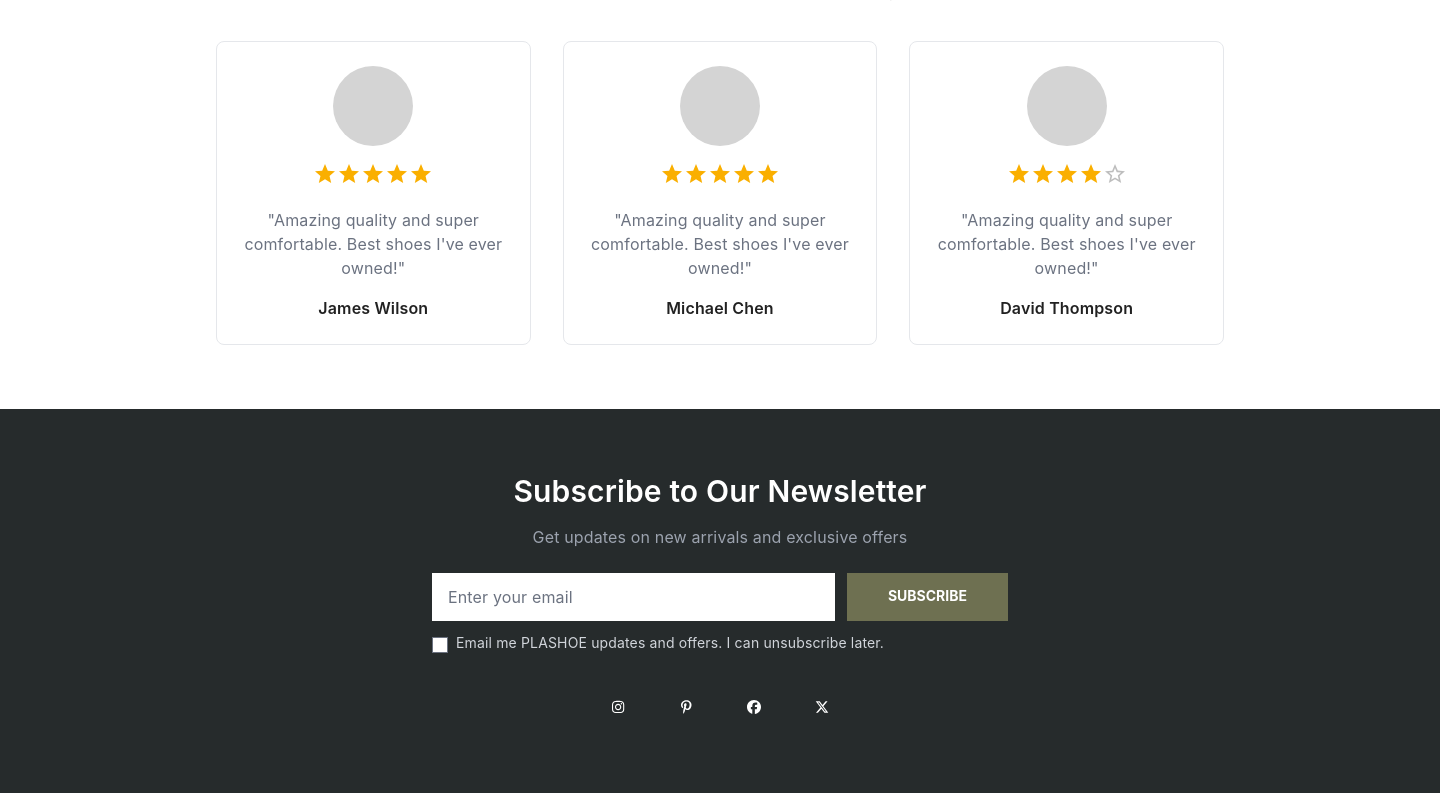
shows newsletter API errors in the form
(page scrolled)
Type "subscriber@example.com" into the field labelled "Enter your email" at (633, 597), box [432,573,835,621]
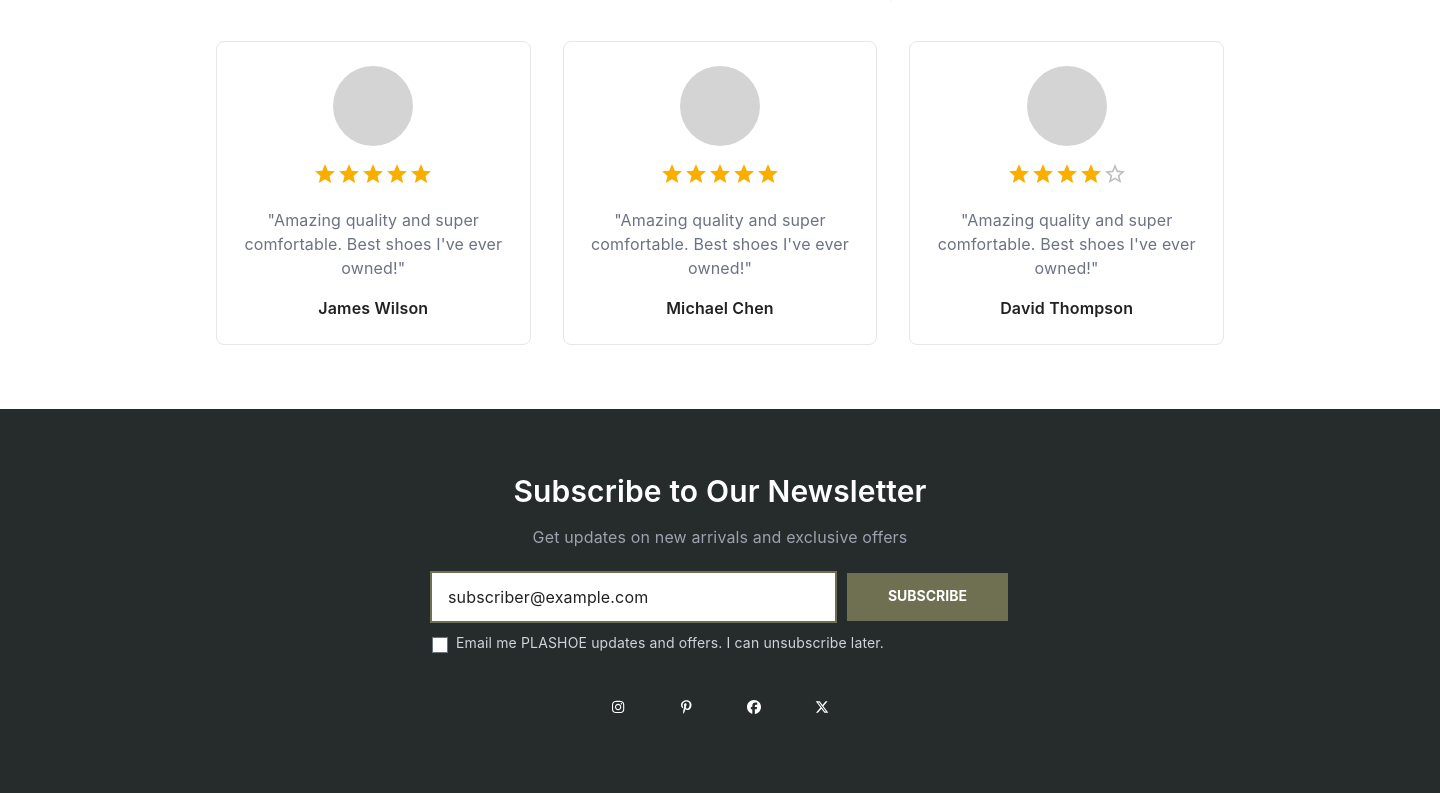
Click the checkbox labelled "Email me PLASHOE updates" at (440, 645), box [432,637,448,653]
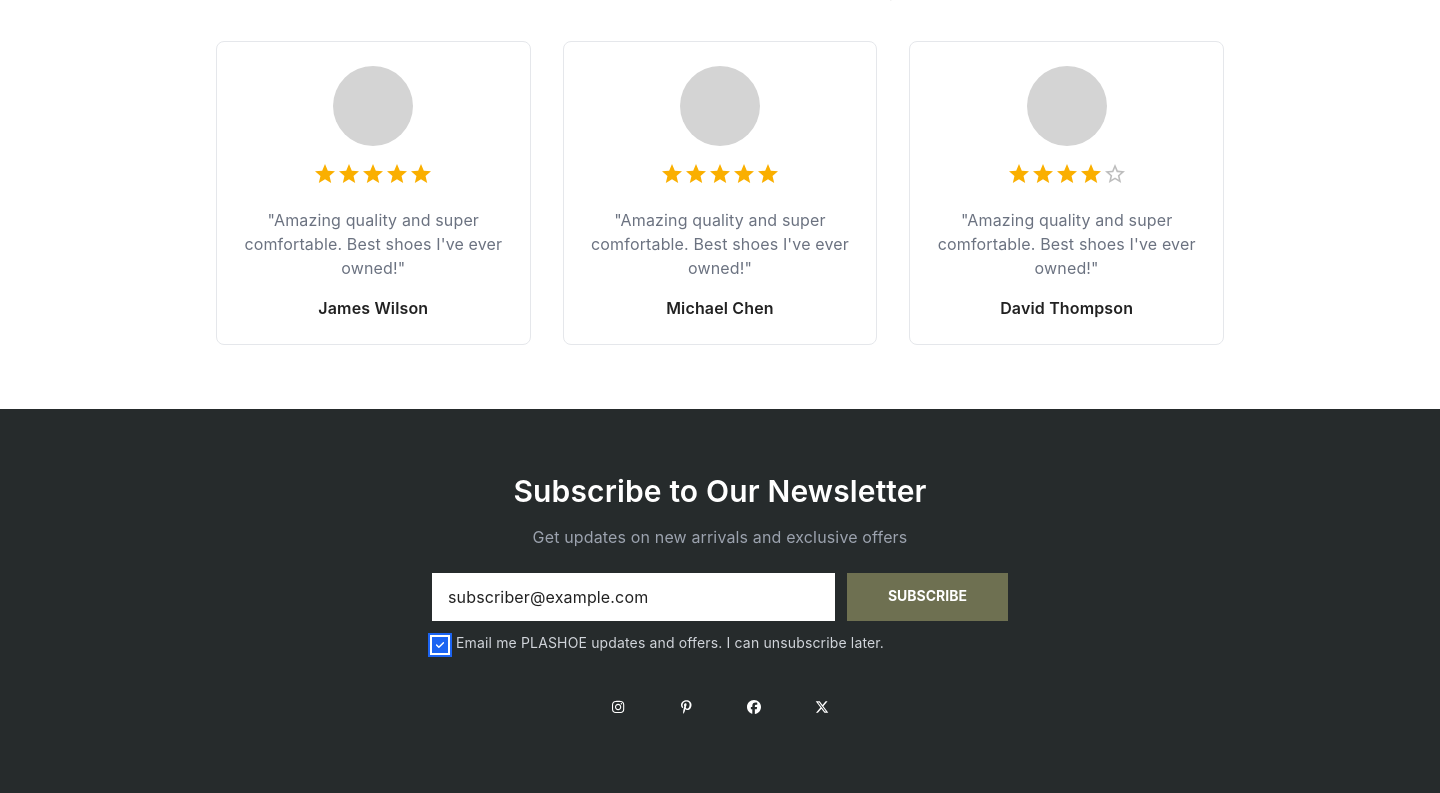
Click the button "SUBSCRIBE" at (927, 597), box [847,573,1008,621]
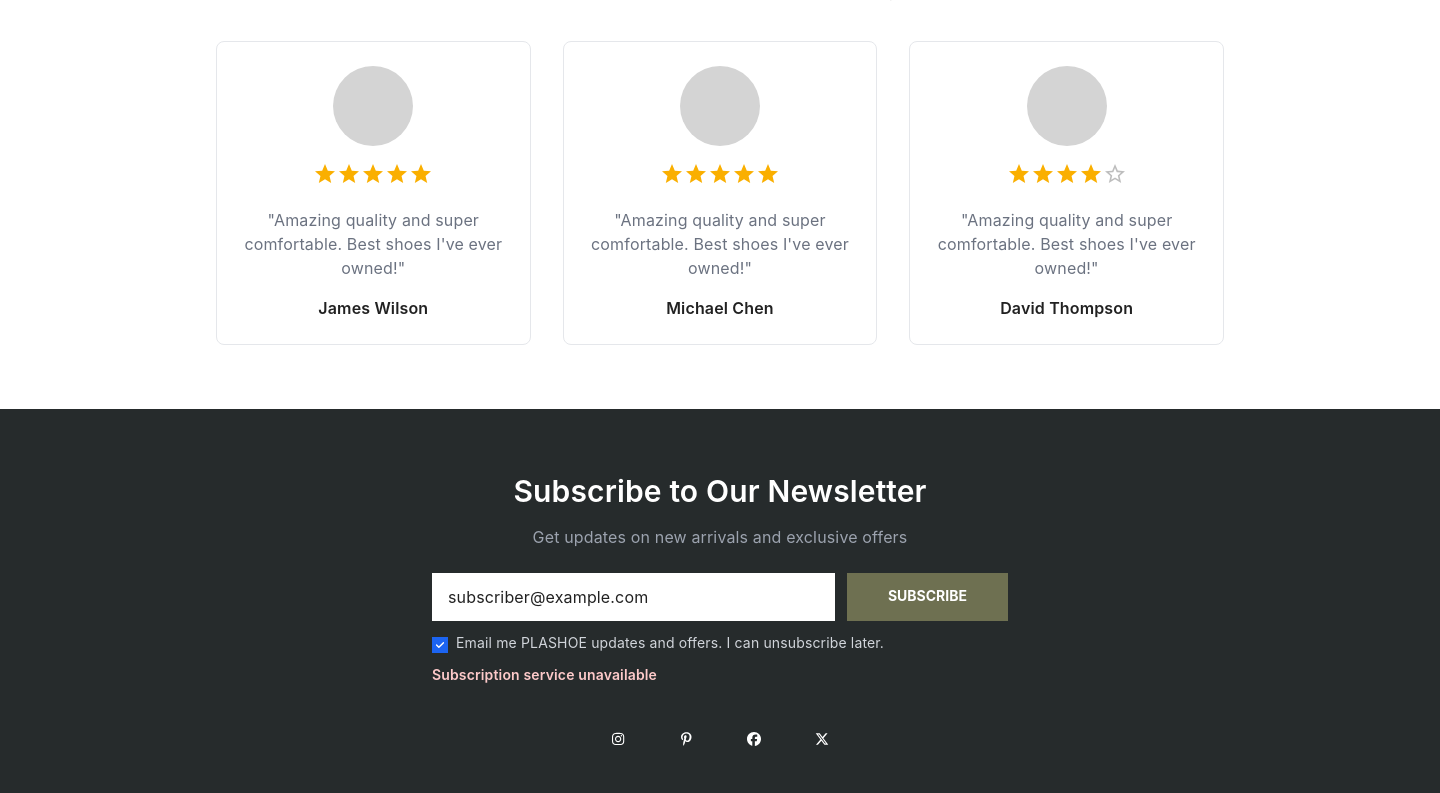
Expected: the text "Subscription service unavailable" is shown, [432,666,657,683]
